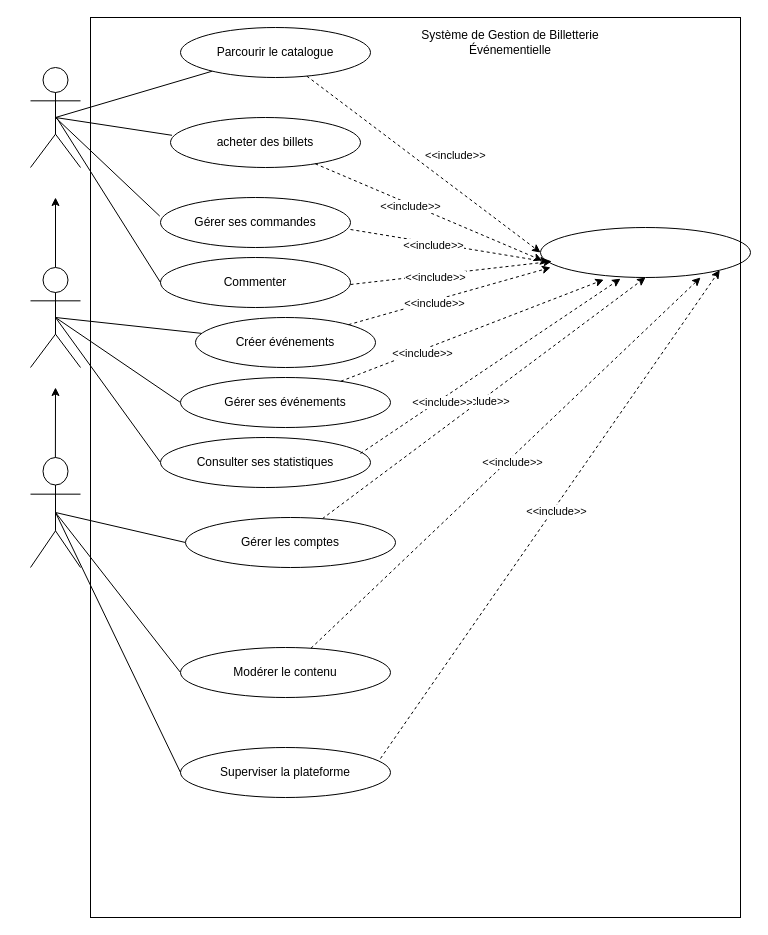
Image size: 768x935. Some labels were removed from this diagram. Here are the shapes that lost their labels. From the top down, the centre of each, then its label:
the point at 55,117: Client
the point at 645,252: Authentifier
the point at 55,317: Organisateur
the point at 55,512: Administrateur
